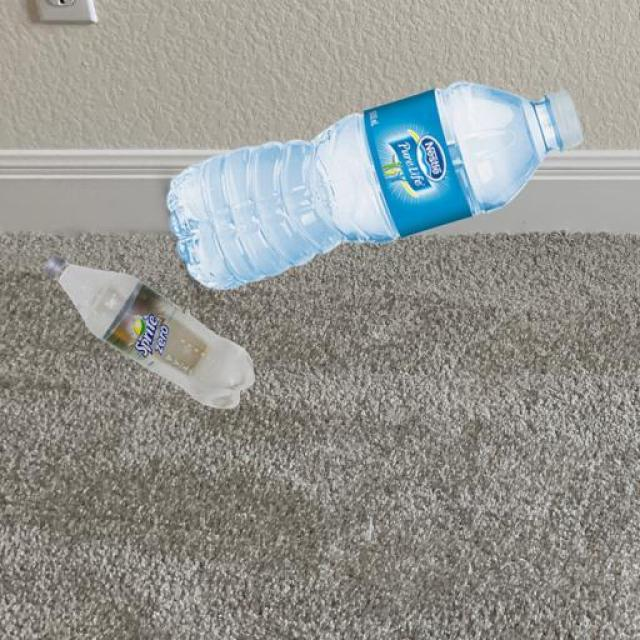bottle: (156, 73, 579, 284), (18, 232, 269, 431)
